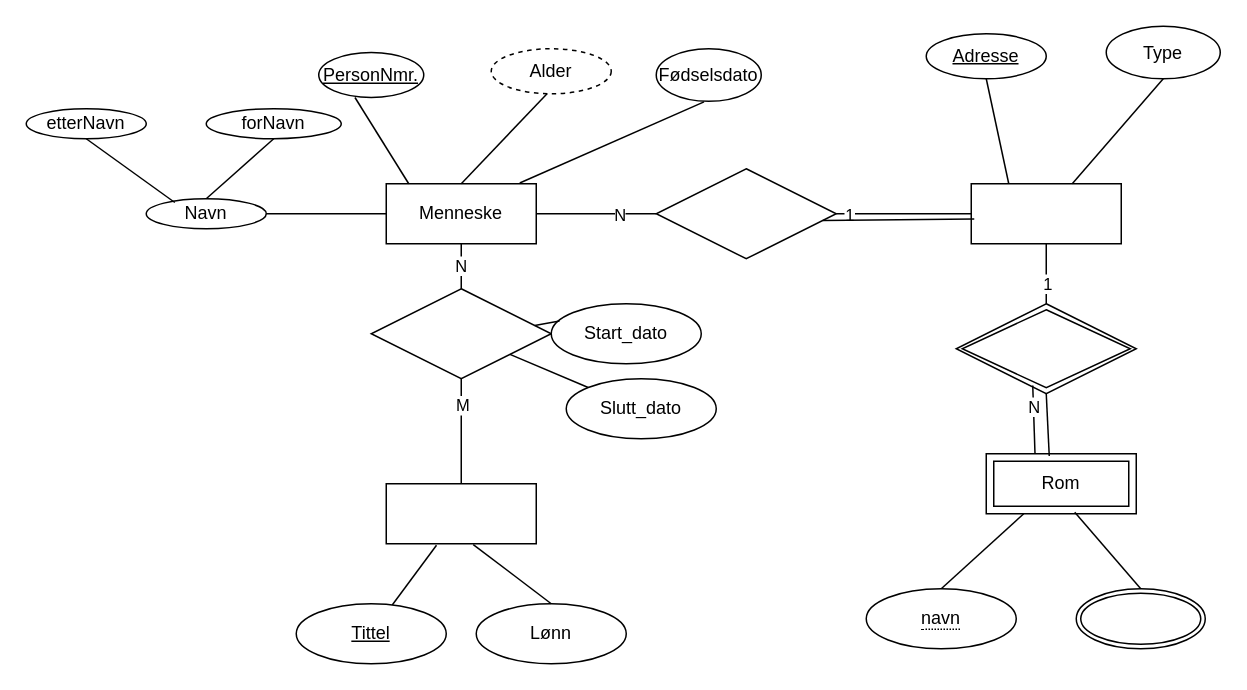
Some shapes in this 1247 by 690 pixel diagram are drawn without their labels. The shapes that lost their labels are listed below. From the top down, each one's box as (x1, y1, x2, y2) in pixels, then its label:
(655, 167, 836, 259): BOR-I
(970, 182, 1121, 244): Bolig
(370, 287, 551, 379): Utfører
(955, 302, 1136, 394): inneHold
(385, 482, 536, 544): YRKE
(1075, 587, 1205, 649): Bruksområdet
